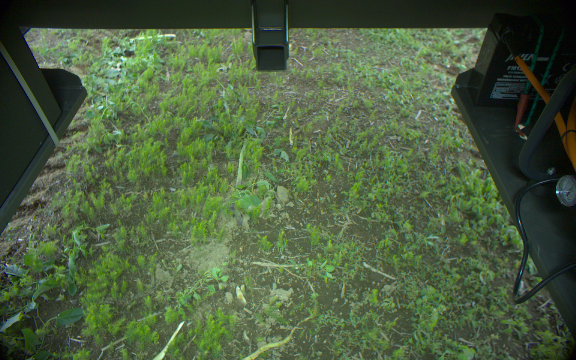aspa: (234, 141, 245, 192), (225, 204, 243, 229)
